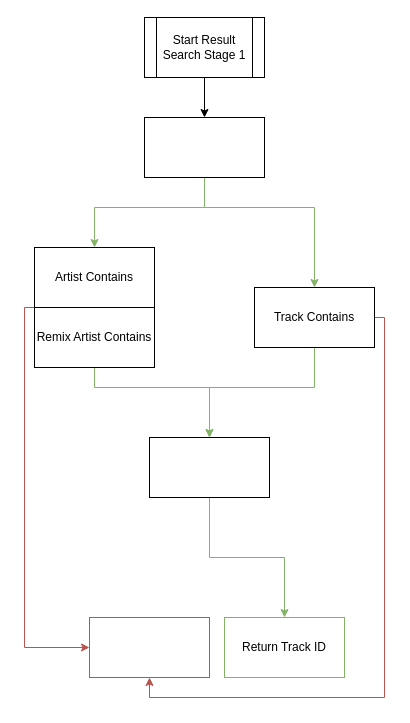
Some shapes in this 410 by 723 pixel diagram are drawn without their labels. Here are the shapes that lost their labels. From the top down, the centre of each, then its label:
the point at 204,147: Duration +/- 1
the point at 209,467: AND
the point at 149,647: Return 0
